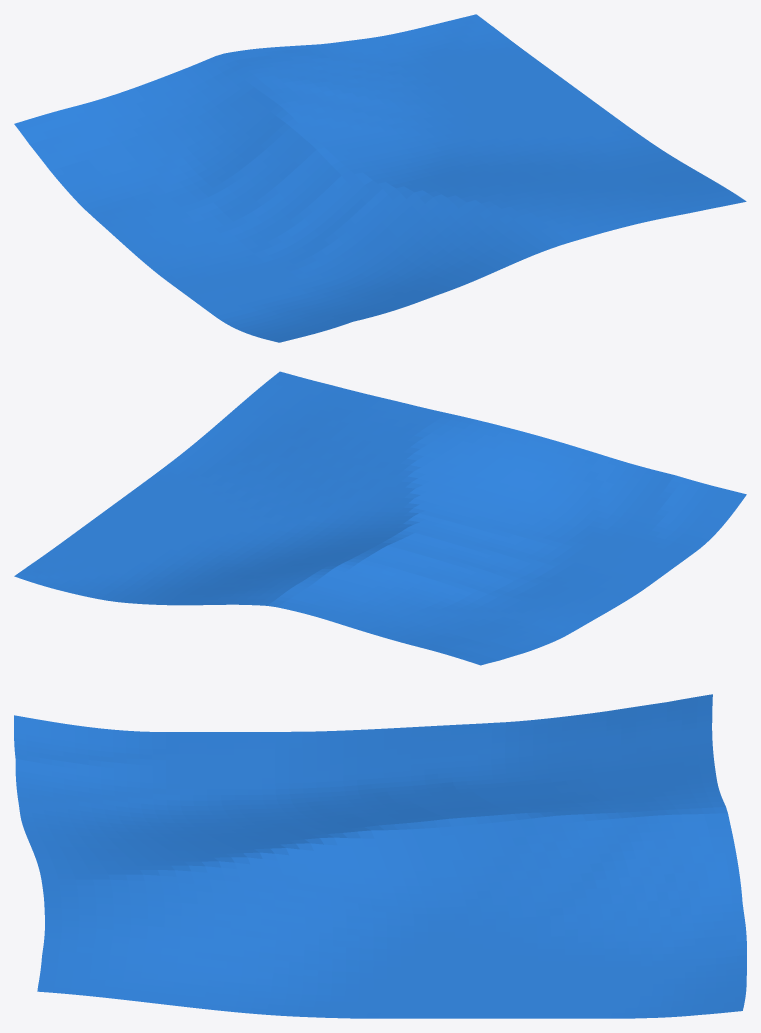
Rendered from tree.gltf.
The picture shows the model from 3 angles, top to bottom: view 1: azimuth 30°, elevation 25°; view 2: azimuth 150°, elevation 25°; view 3: azimuth 270°, elevation 25°; orthographic projection. The views are drawn at different scales.
Parts seen in each view (by area): view 1: Plane; view 2: Plane; view 3: Plane.
Part boxes in pixels (left/top/right/bottom): Plane: left=14, top=14, right=746, bottom=342; Plane: left=14, top=371, right=746, bottom=665; Plane: left=14, top=694, right=746, bottom=1018.
Bounding box in the file's own units: 2.08 × 0.4657 × 2.1.
